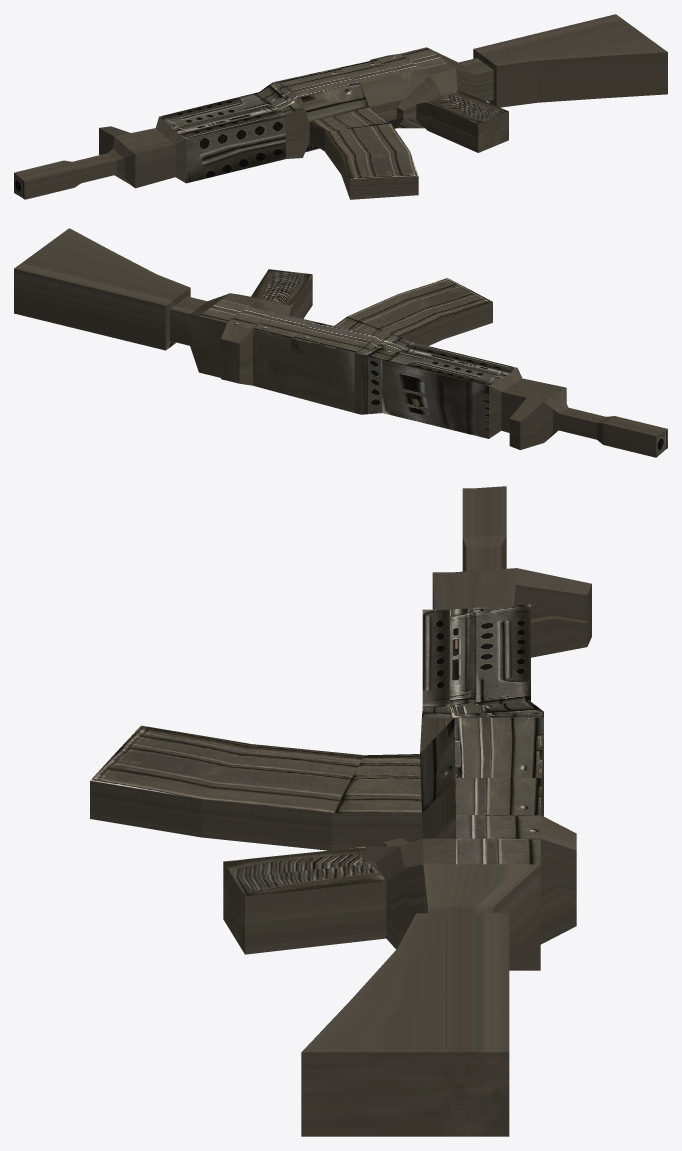
The model's file is MITRA.fbx.
The picture shows the model from 3 angles, top to bottom: view 1: azimuth 30°, elevation 25°; view 2: azimuth 150°, elevation 25°; view 3: azimuth 270°, elevation 25°; orthographic projection. The views are drawn at different scales.
Parts seen in each view (by area): view 1: Cube; view 2: Cube; view 3: Cube.
Boxes of the visible parts, x1,y1,x2,y2 form: Cube: (14, 14, 667, 199); Cube: (14, 228, 667, 457); Cube: (90, 486, 591, 1136).
Size of the model in its own units: 1803 by 160 by 650.
1 material, 1 textured.
